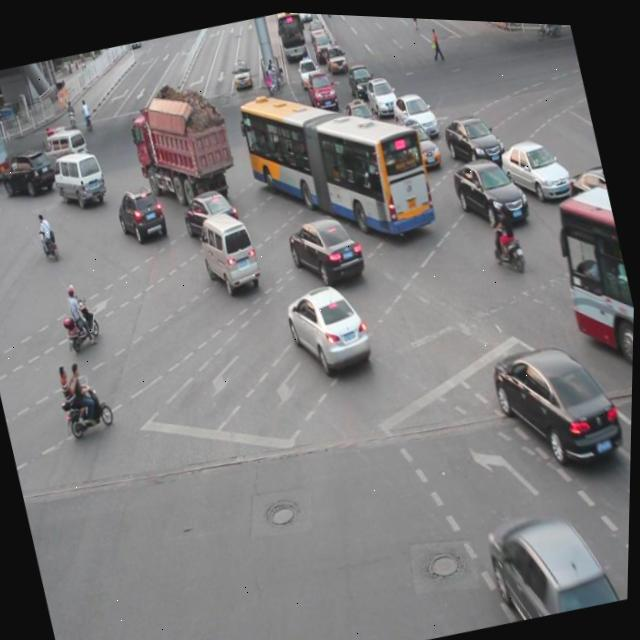bus: (126, 87, 242, 211)
car: (485, 324, 629, 474), (481, 490, 622, 623), (280, 273, 377, 379), (283, 203, 369, 290), (447, 145, 532, 231), (496, 125, 573, 205), (438, 102, 507, 172), (177, 179, 244, 247), (113, 180, 170, 246), (390, 109, 442, 170), (565, 158, 614, 218), (387, 83, 439, 139), (340, 90, 387, 143)
truck: (194, 202, 265, 294), (49, 145, 112, 213)
van: (233, 57, 440, 260), (547, 180, 637, 368)
